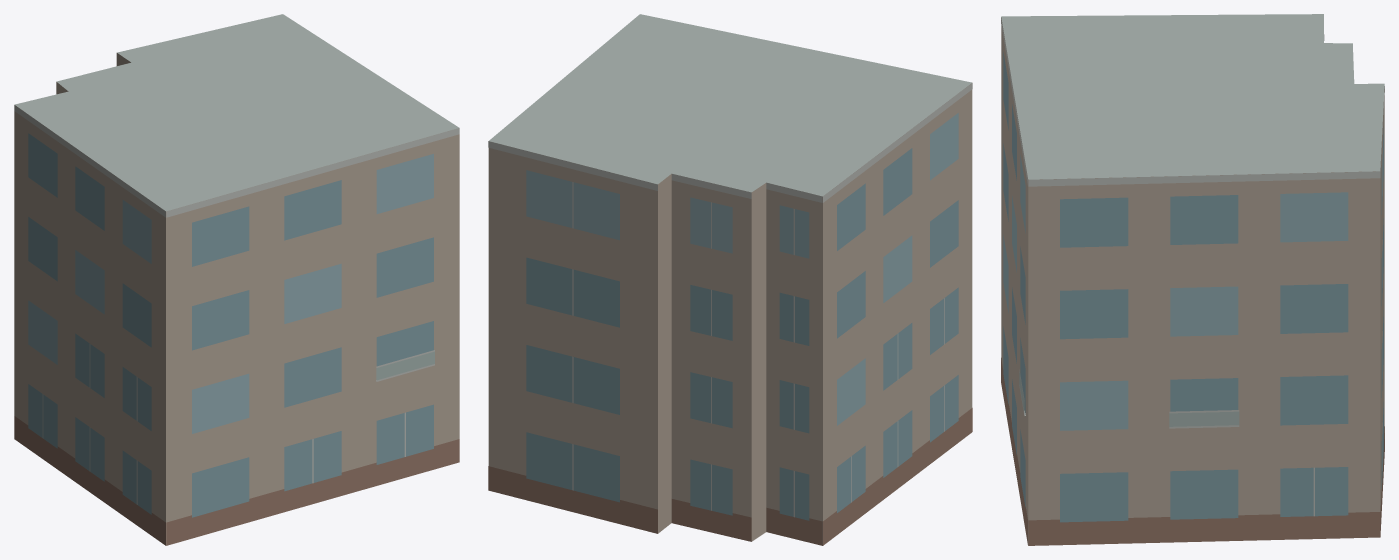
File: survey-upis-32666758.glb
The picture shows the model from 3 angles, left to right: view 1: azimuth 30°, elevation 25°; view 2: azimuth 150°, elevation 25°; view 3: azimuth 270°, elevation 25°; orthographic projection. The views are drawn at different scales.
Parts seen in each view (by area): view 1: survey-upis-32666758.tmp; view 2: survey-upis-32666758.tmp; view 3: survey-upis-32666758.tmp.
Part boxes in pixels (<box>): survey-upis-32666758.tmp: <box>14,14,459,545</box>; survey-upis-32666758.tmp: <box>488,14,972,545</box>; survey-upis-32666758.tmp: <box>1001,14,1384,545</box>.
Size of the model in its own units: 12.43 by 12.8 by 12.16.
